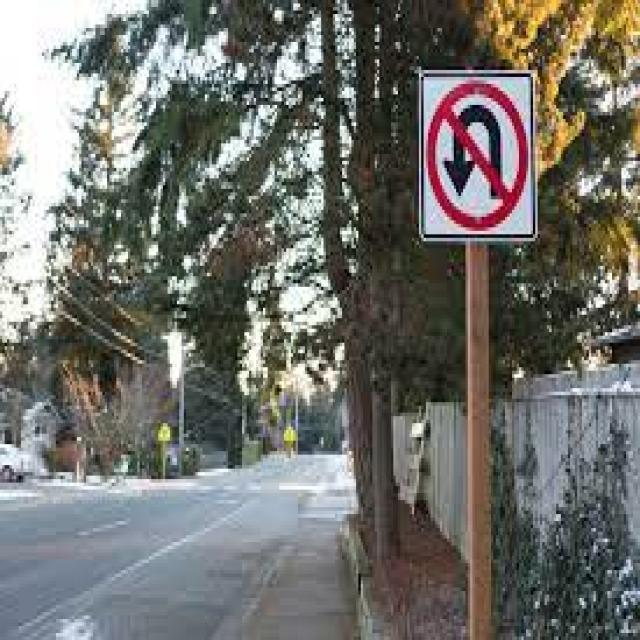u turn prohibited: (418, 70, 539, 243)
